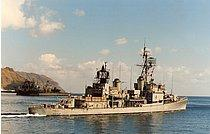MIL_Ship: (26, 54, 188, 115)
